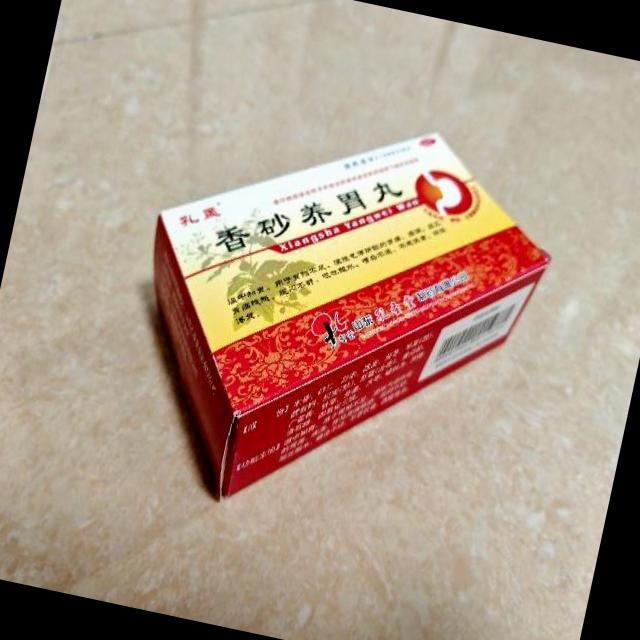box: (104, 80, 570, 556)
